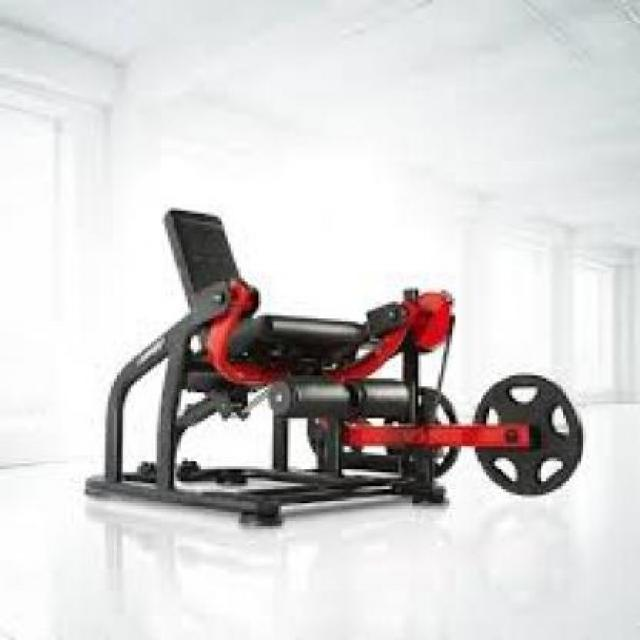leg extension: (65, 179, 592, 566)
